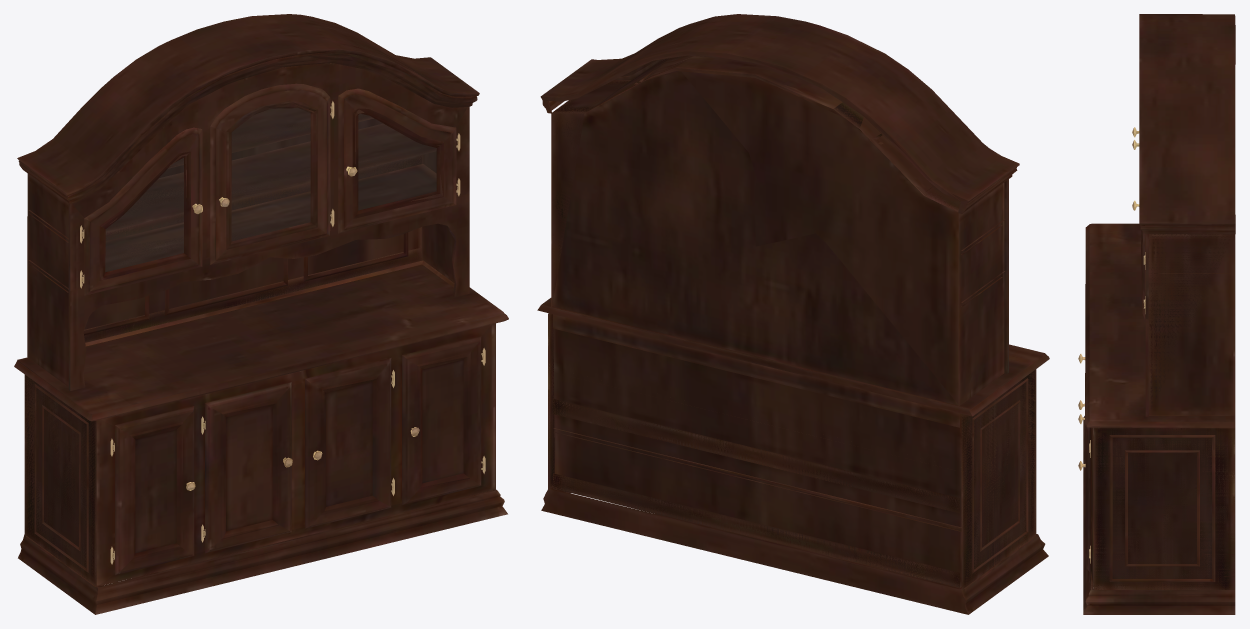
3 renders of one model, left to right at view 1: azimuth 30°, elevation 25°; view 2: azimuth 150°, elevation 25°; view 3: azimuth 270°, elevation 25°, orthographic. The views are drawn at different scales.
Parts seen in each view (by area): view 1: vintage_cabinet_01_body, vintage_cabinet_01_door_01; view 2: vintage_cabinet_01_body; view 3: vintage_cabinet_01_body.
Boxes of the visible parts, <box> form: vintage_cabinet_01_body: <box>14,14,508,614</box>; vintage_cabinet_01_door_01: <box>105,108,436,271</box>; vintage_cabinet_01_body: <box>537,14,1049,614</box>; vintage_cabinet_01_body: <box>1078,14,1235,614</box>.
Bounding box in the file's own units: 2.02 × 2.23 × 0.6697.
Materials: 3 (2 with a texture image).
